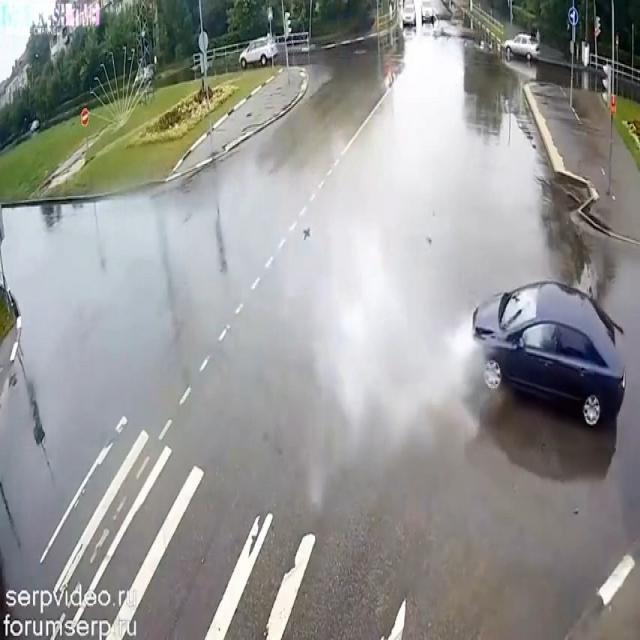Accident: (444, 258, 640, 474)
